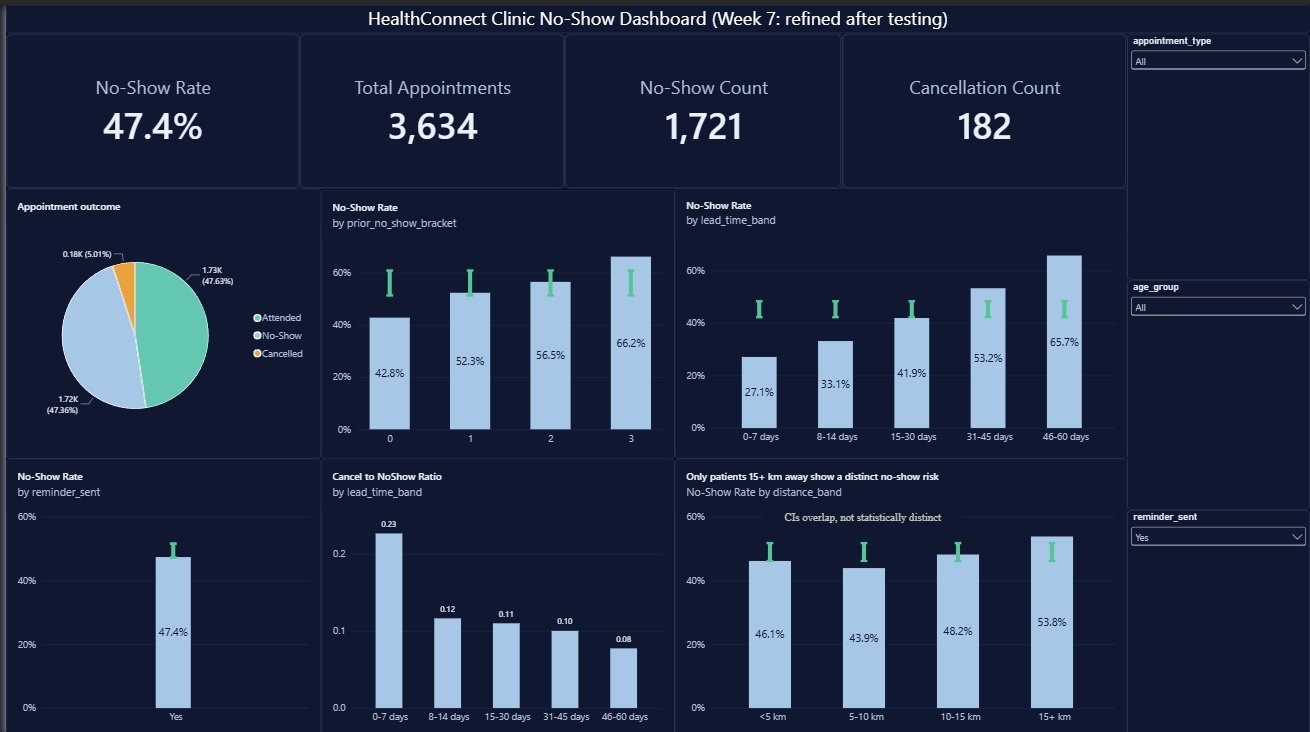

The page's visual inventory and layout, read from the dashboard file:
{"tool":"powerbi","page":{"name":"Page 1","canvas":[1920,1080],"ordinal":0},"visuals":[{"type":"pieChart","title":"Appointment outcome","fields":{"Category":["healthconnect_appointments_prepared.appointment_outcome"],"Y":["CountNonNull(healthconnect_appointments_prepared.appointment_id)"]},"box":[0,270.6,463.8,397.5],"z":0},{"type":"clusteredColumnChart","fields":{"Y":["healthconnect_appointments_prepared.No-Show Rate"],"Category":["healthconnect_appointments_prepared.prior_no_show_bracket"]},"box":[463.8,272.4,520.9,397.5],"z":1000},{"type":"clusteredColumnChart","title":"Only patients 15+ km away show a distinct no-show risk","fields":{"Y":["healthconnect_appointments_prepared.No-Show Rate"],"Category":["healthconnect_appointments_prepared.distance_band"]},"box":[984.7,668.1,666.3,412.3],"z":2000},{"type":"clusteredColumnChart","fields":{"Y":["healthconnect_appointments_prepared.No-Show Rate"],"Category":["healthconnect_appointments_prepared.reminder_sent"]},"box":[0,668.1,463.8,412.3],"z":3000},{"type":"clusteredColumnChart","fields":{"Category":["healthconnect_appointments_prepared.lead_time_band"],"Y":["healthconnect_appointments_prepared.No-Show Rate"]},"box":[984.7,268.7,666.3,399.4],"z":4000},{"type":"clusteredColumnChart","fields":{"Y":["healthconnect_appointments_prepared.Cancel to NoShow Ratio"],"Category":["healthconnect_appointments_prepared.lead_time_band"]},"box":[463.8,668.1,520.9,412.3],"z":5000},{"type":"textbox","box":[0,0,1920.4,41.7],"z":6000},{"type":"cardVisual","fields":{"Data":["healthconnect_appointments_prepared.No-Show Rate"]},"box":[0,42.3,432.5,228.2],"z":7000},{"type":"cardVisual","fields":{"Data":["healthconnect_appointments_prepared.Total Appointments"]},"box":[432.5,42.3,390.2,228.2],"z":8000},{"type":"cardVisual","fields":{"Data":["healthconnect_appointments_prepared.No-Show Count"]},"box":[822.7,42.3,408.6,228.2],"z":9000},{"type":"cardVisual","fields":{"Data":["healthconnect_appointments_prepared.Cancellation Count"]},"box":[1231.3,42.3,419.6,228.2],"z":10000},{"type":"textbox","box":[1113.5,743.6,296.3,35],"z":11000},{"type":"slicer","fields":{"Values":["healthconnect_appointments_prepared.appointment_type"]},"box":[1650.9,42.3,268.7,362.6],"z":11001},{"type":"slicer","fields":{"Values":["healthconnect_appointments_prepared.age_group"]},"box":[1650.9,404.9,268.7,338.7],"z":11002},{"type":"slicer","fields":{"Values":["healthconnect_appointments_prepared.reminder_sent"]},"box":[1650.9,743.6,268.7,336.8],"z":11003}]}

Visuals, with their boxes in screenshot pixels (x1, y1, x2, y2), scaled from the page's 1920x1080 canvas onto the 1310x732 screenshot:
"Appointment outcome" pieChart: 0:183:316:453
clusteredColumnChart - healthconnect_appointments_prepared.No-Show Rate x healthconnect_appointments_prepared.prior_no_show_bracket: 316:185:672:454
"Only patients 15+ km away show a distinct no-show risk" clusteredColumnChart: 672:453:1126:731
clusteredColumnChart - healthconnect_appointments_prepared.No-Show Rate x healthconnect_appointments_prepared.reminder_sent: 0:453:316:731
clusteredColumnChart - healthconnect_appointments_prepared.lead_time_band x healthconnect_appointments_prepared.No-Show Rate: 672:182:1126:453
clusteredColumnChart - healthconnect_appointments_prepared.Cancel to NoShow Ratio x healthconnect_appointments_prepared.lead_time_band: 316:453:672:731
textbox: 0:0:1309:28
cardVisual - healthconnect_appointments_prepared.No-Show Rate: 0:29:295:183
cardVisual - healthconnect_appointments_prepared.Total Appointments: 295:29:561:183
cardVisual - healthconnect_appointments_prepared.No-Show Count: 561:29:840:183
cardVisual - healthconnect_appointments_prepared.Cancellation Count: 840:29:1126:183
textbox: 760:504:962:528
slicer - healthconnect_appointments_prepared.appointment_type: 1126:29:1309:274
slicer - healthconnect_appointments_prepared.age_group: 1126:274:1309:504
slicer - healthconnect_appointments_prepared.reminder_sent: 1126:504:1309:731
